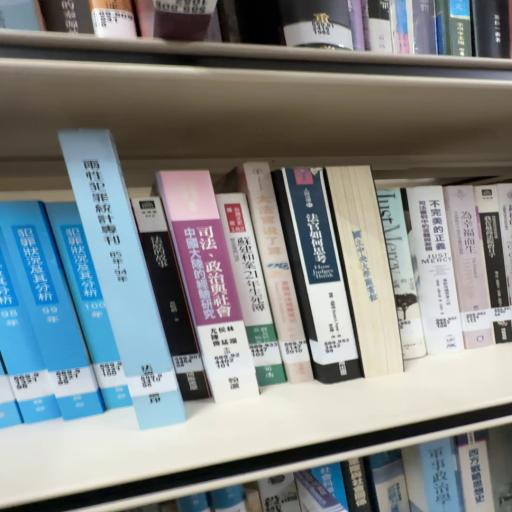backward: (325, 167, 404, 379)
book: (56, 134, 188, 436), (158, 177, 261, 411), (279, 167, 367, 390), (220, 174, 308, 392), (325, 163, 404, 379), (134, 203, 206, 412), (218, 189, 269, 400)
